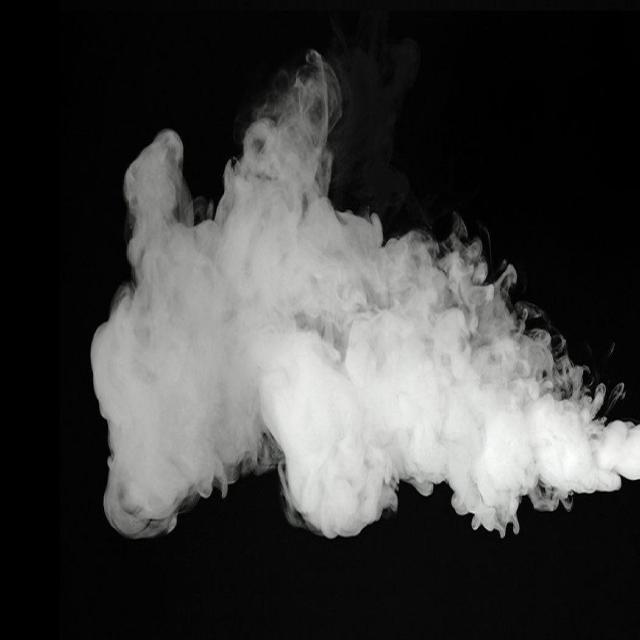Smoke: (89, 51, 640, 541)
